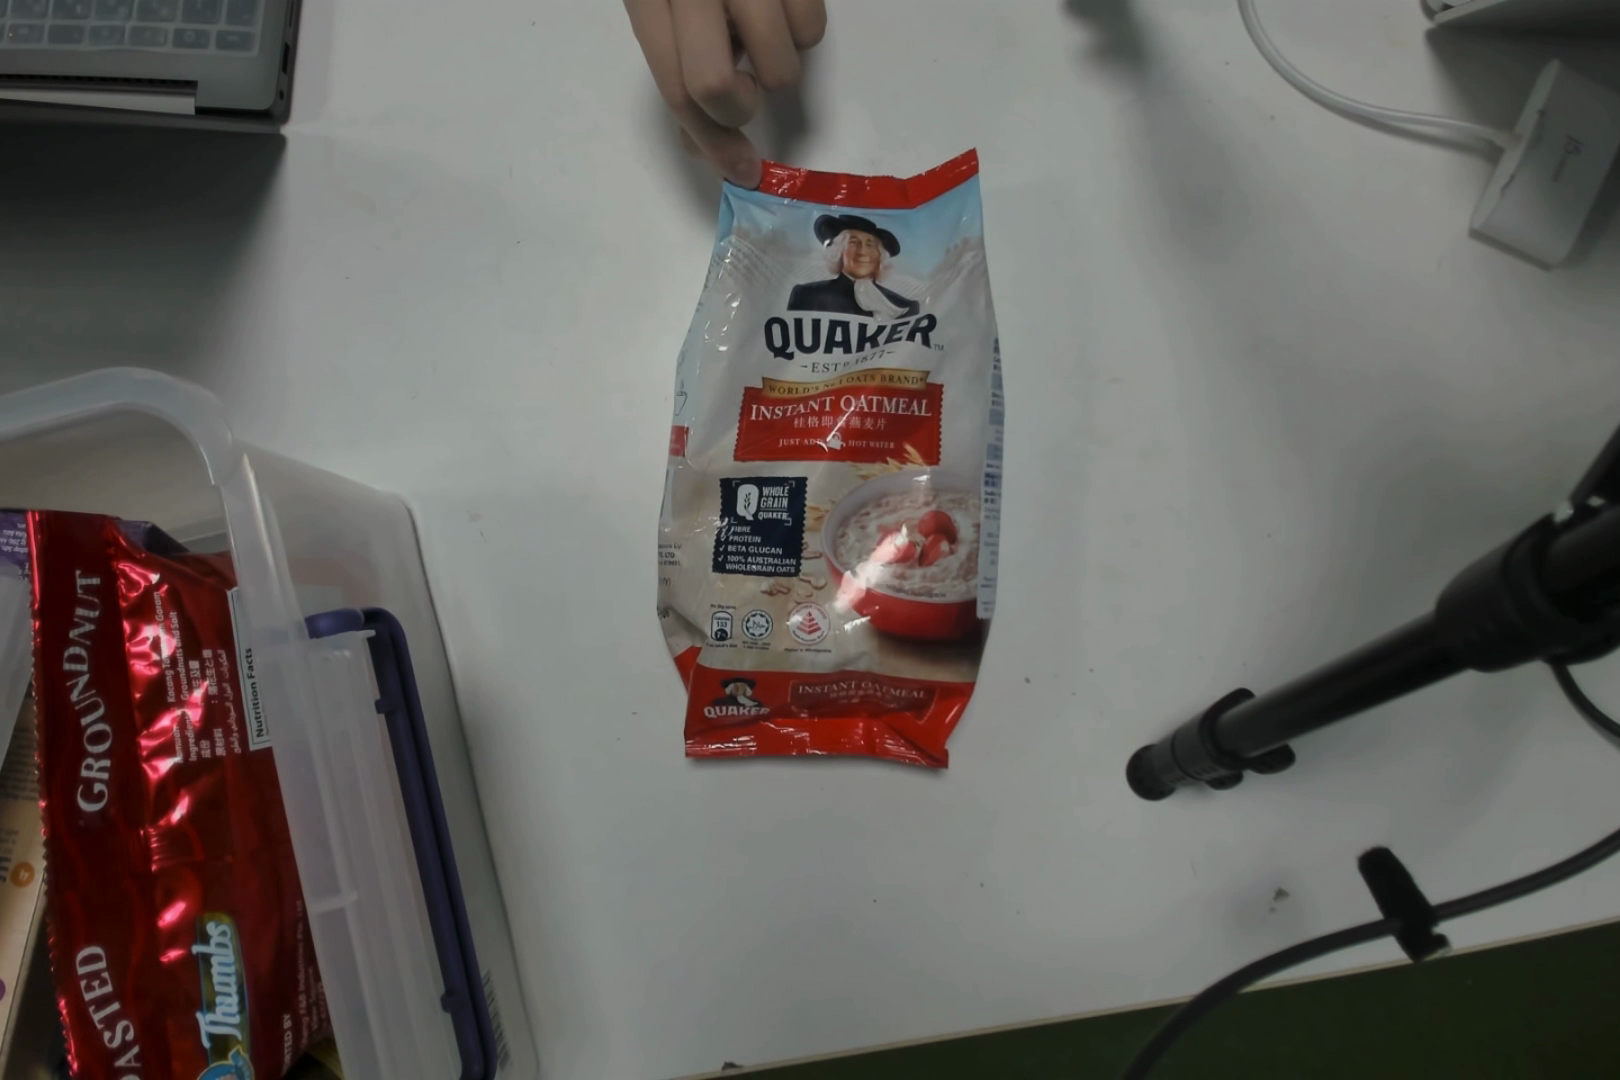RolledOatsInstantOatmeal_400-499g_Halal_Healthy: (681, 172, 988, 797)
